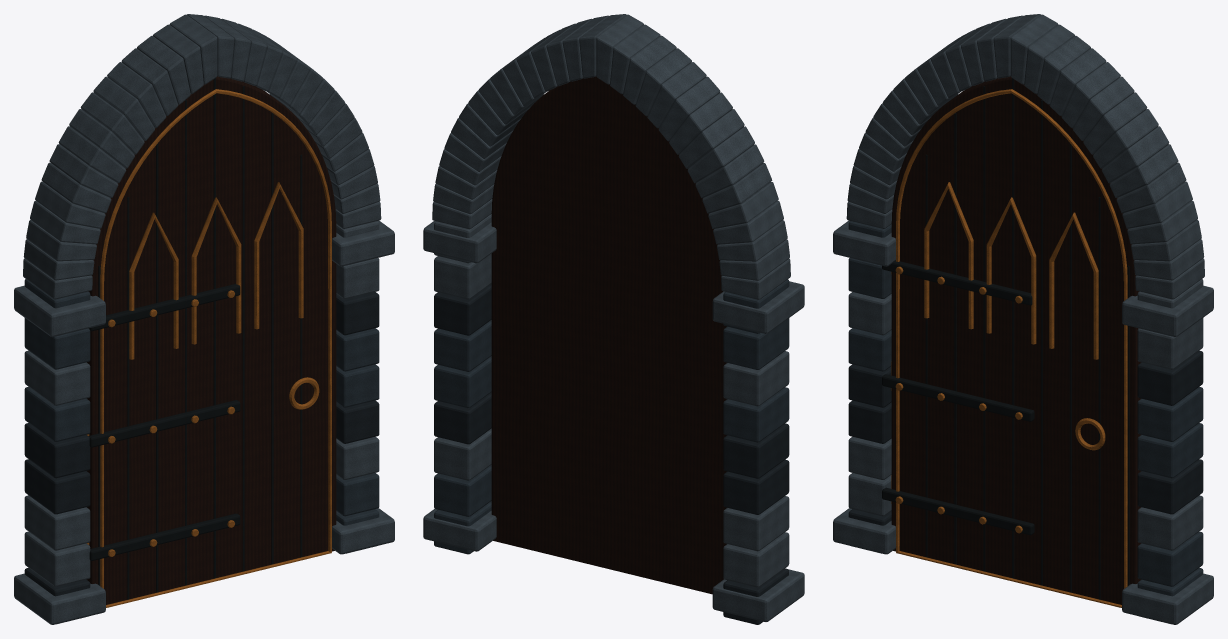
The model's file is door_standard.fbx.
3 renders of one model, left to right at view 1: azimuth 30°, elevation 25°; view 2: azimuth 150°, elevation 25°; view 3: azimuth 330°, elevation 25°, orthographic.
Visible parts, largest first — view 1: door_standard_leaf, door_standard_frame; view 2: door_standard_leaf, door_standard_frame; view 3: door_standard_leaf, door_standard_frame.
Part boxes in pixels (<box>): door_standard_leaf: <box>86,76,336,607</box>; door_standard_frame: <box>14,14,394,624</box>; door_standard_leaf: <box>491,76,726,594</box>; door_standard_frame: <box>423,14,804,624</box>; door_standard_leaf: <box>882,76,1141,607</box>; door_standard_frame: <box>833,14,1213,624</box>.
Bounding box in the file's own units: 248 × 378 × 48.
6 materials, 6 textured.
